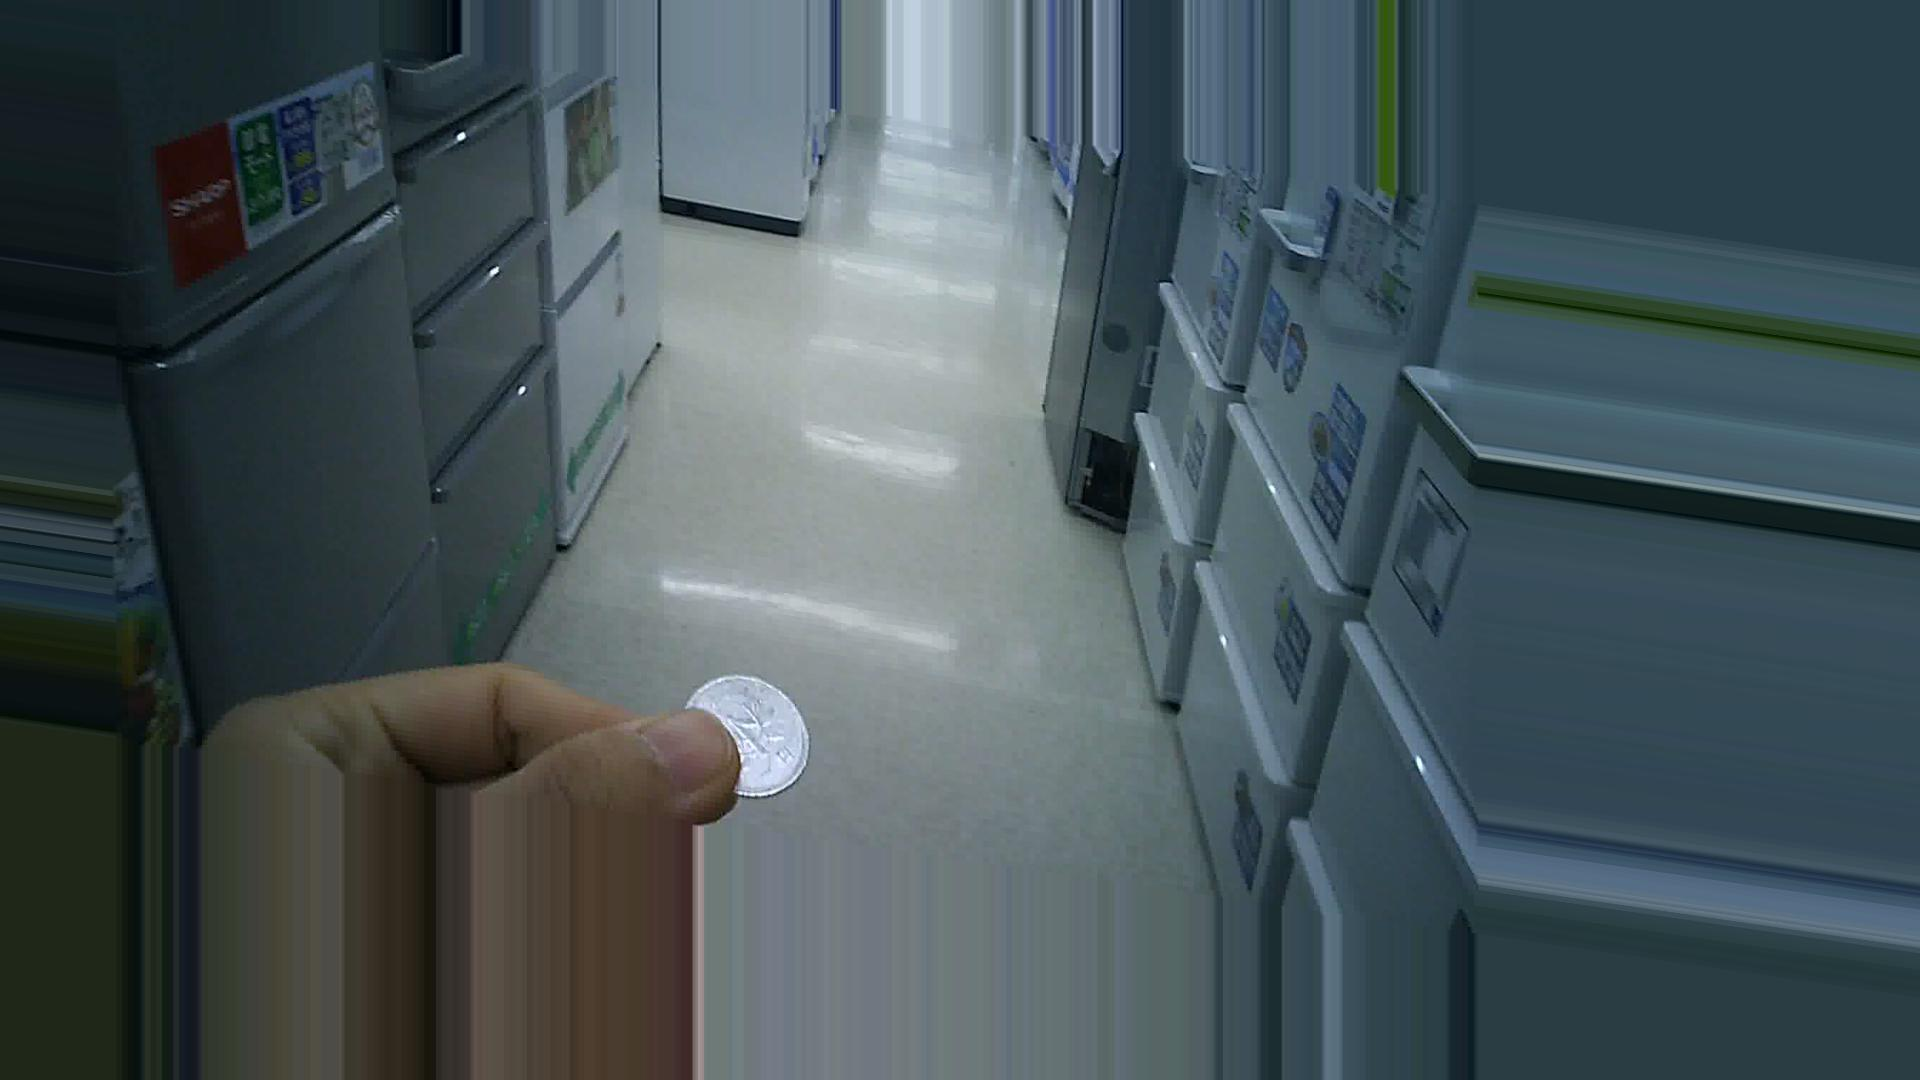1 Yen: (673, 663, 808, 803)
